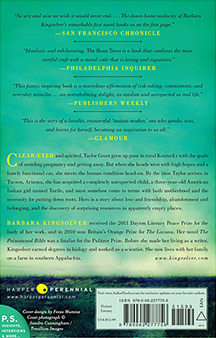barcode: (117, 298, 195, 329)
